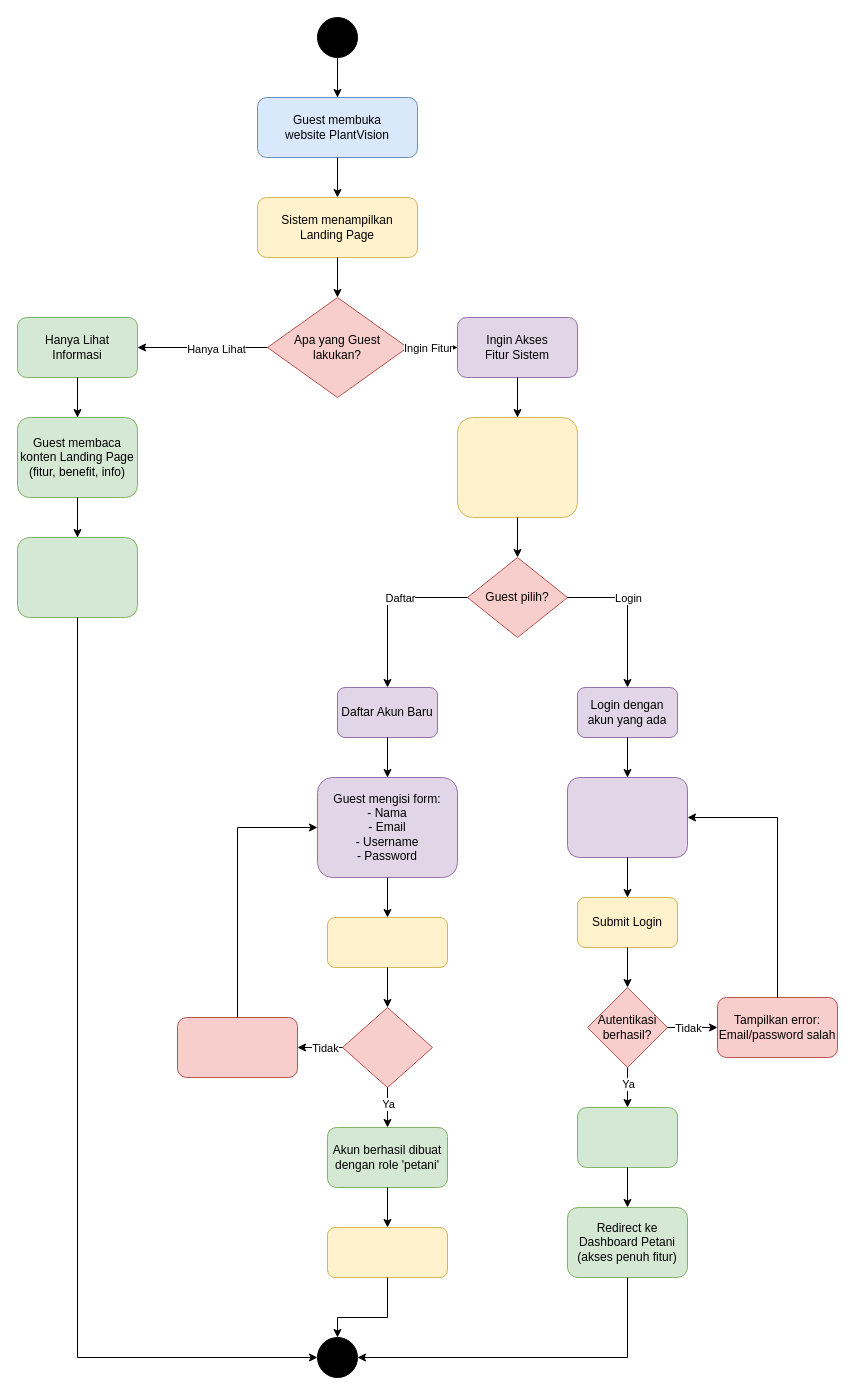
Some shapes in this 855 by 1395 pixel diagram are drawn without their labels. The centre of each missing label's shape, as x and y in pixels:
"Guest mengisi: - Email/Username - Password" goes at point (627, 817).
"Guest menutup website atau tetap di Landing Page" goes at point (77, 577).
"Login berhasil sebagai Petani" goes at point (627, 1137).
"Redirect ke halaman Login" goes at point (387, 1252).
"Sistem menampilkan pilihan: - Daftar (Register) - Login" goes at point (517, 467).
"Submit Registrasi" goes at point (387, 942).
"Tampilkan pesan error (email sudah terdaftar, dll)" goes at point (237, 1047).
"Validasi berhasil?" goes at point (387, 1047).
